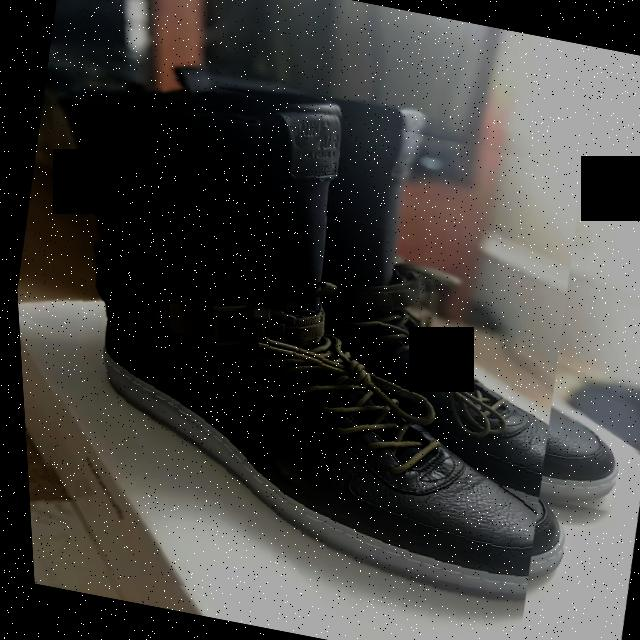shoe: (3, 60, 606, 640), (178, 81, 640, 523)
